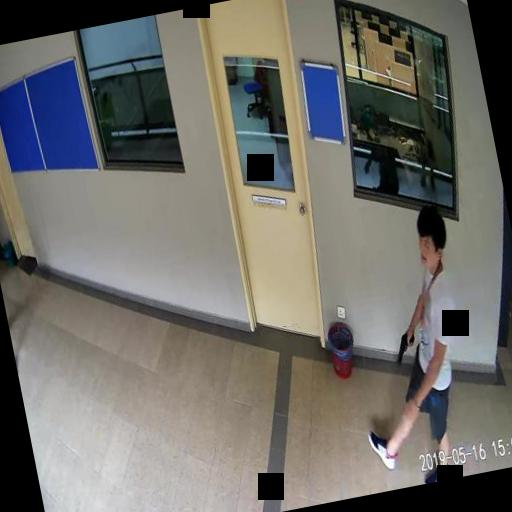Handgun: (390, 328, 416, 362)
